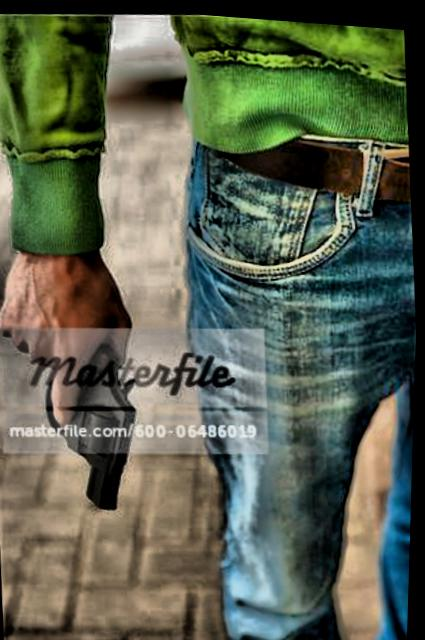pistol: (38, 308, 148, 516)
